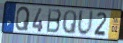2: (93, 12, 108, 37)
4: (31, 6, 44, 34)
B: (46, 8, 63, 35)
Q: (14, 6, 31, 33), (61, 9, 78, 36)
U: (76, 9, 95, 38)
